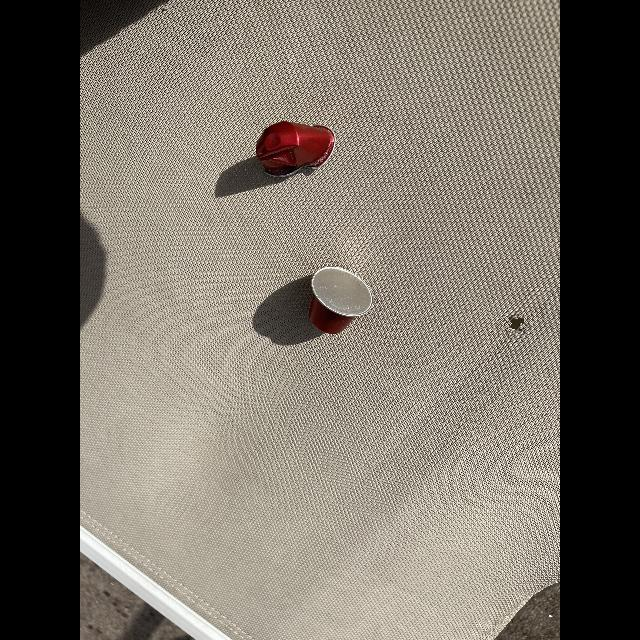damaged_capsule: (254, 118, 342, 182)
intact_capsule: (304, 262, 381, 340)
